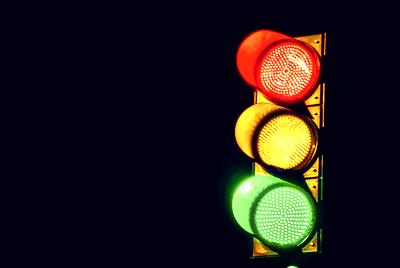International Road Signal Light: (227, 28, 326, 268)
